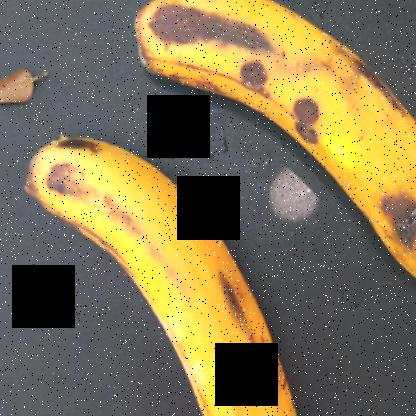overripe: (140, 0, 415, 304)
ripe: (20, 128, 310, 416)
